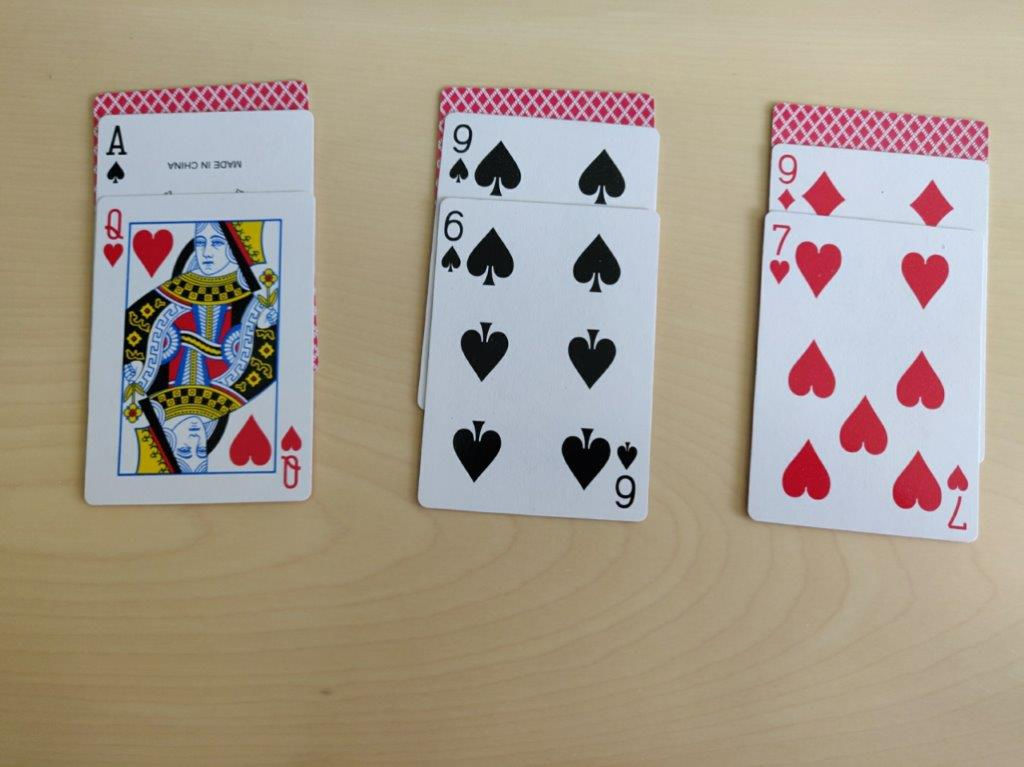6S: (438, 204, 466, 278)
7H: (764, 221, 797, 289)
9D: (772, 149, 802, 217)
9S: (446, 119, 473, 187)
AS: (100, 118, 134, 188)
BACK: (770, 98, 990, 155), (435, 80, 659, 129), (86, 81, 313, 111)
QH: (100, 205, 128, 271)
